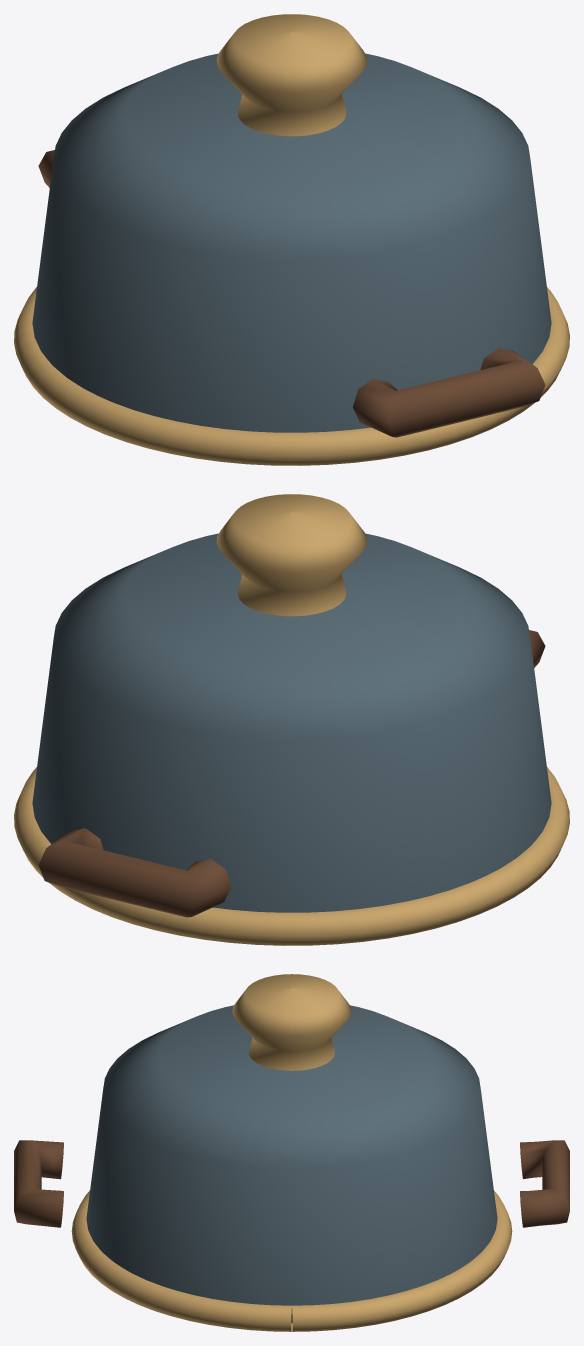
The model's file is hat_cookpot_crafted.glb.
3 renders of one model, top to bottom at view 1: azimuth 30°, elevation 25°; view 2: azimuth 150°, elevation 25°; view 3: azimuth 270°, elevation 25°, orthographic. The views are drawn at different scales.
Visible parts, largest first — view 1: Brushed blue iron, Satin antique brass, Oiled walnut grip; view 2: Brushed blue iron, Satin antique brass, Oiled walnut grip; view 3: Brushed blue iron, Satin antique brass, Oiled walnut grip.
Part boxes in pixels (box(x1,y1,x2,y2)): Brushed blue iron: box(32, 53, 551, 432); Satin antique brass: box(14, 14, 569, 465); Oiled walnut grip: box(38, 150, 545, 437); Brushed blue iron: box(32, 533, 551, 912); Satin antique brass: box(14, 494, 569, 945); Oiled walnut grip: box(38, 630, 545, 917); Brushed blue iron: box(86, 1005, 497, 1323); Satin antique brass: box(71, 974, 512, 1331); Oiled walnut grip: box(14, 1140, 569, 1227).
Size of the model in its own units: 0.56 by 0.359 by 0.7068.
